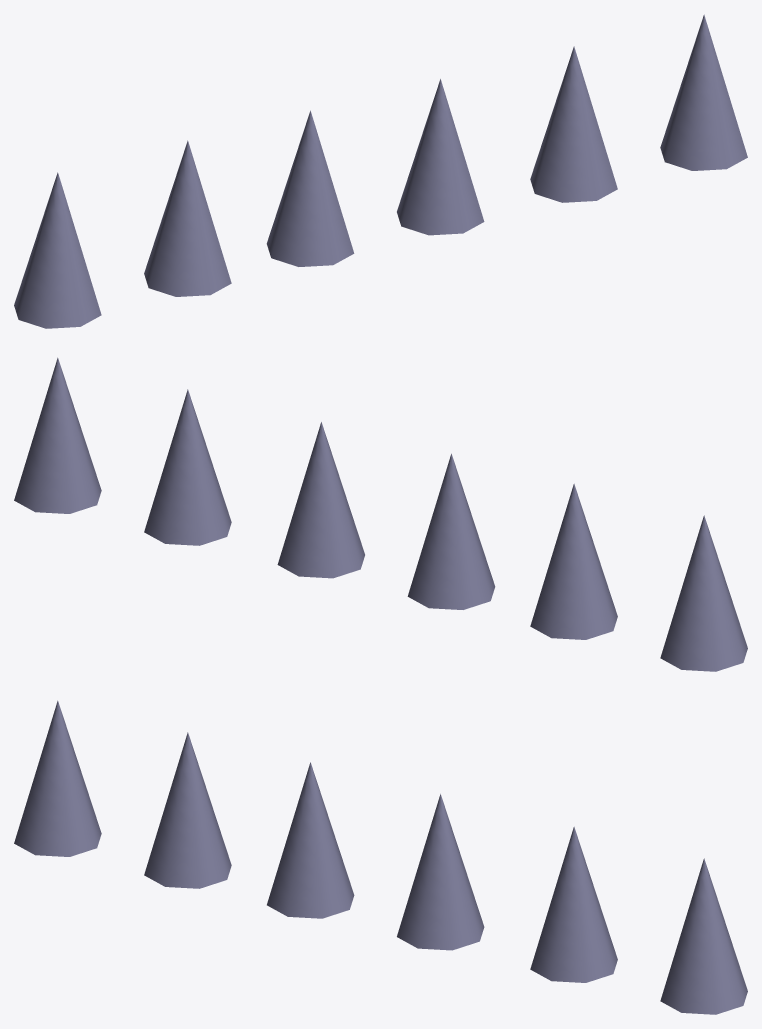
Rendered from rij_spikes.fbx.
The picture shows the model from 3 angles, top to bottom: view 1: azimuth 30°, elevation 25°; view 2: azimuth 150°, elevation 25°; view 3: azimuth 330°, elevation 25°; orthographic projection.
Parts seen in each view (by area): view 1: spike1, spike6, spike2, spike5, spike3, spike4; view 2: spike1, spike6, spike2, spike5, spike3, spike4; view 3: spike6, spike5, spike4, spike1, spike3, spike2.
Part boxes in pixels (x1,y1,x2,y2): spike1: (660,14,747,170); spike6: (14,172,101,328); spike2: (530,46,617,202); spike5: (144,140,231,296); spike3: (397,79,484,235); spike4: (266,110,354,266); spike1: (14,357,101,513); spike6: (660,515,747,671); spike2: (144,389,231,545); spike5: (530,483,617,639); spike3: (277,422,364,578); spike4: (407,453,495,609); spike6: (14,700,101,856); spike5: (144,732,231,888); spike4: (267,762,354,918); spike1: (660,858,747,1014); spike3: (397,794,484,950); spike2: (530,826,617,982).
Bounding box in the file's own units: 1152 × 210 × 125.
